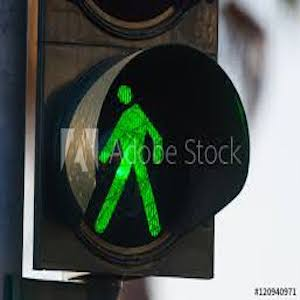green: (95, 82, 165, 239)
